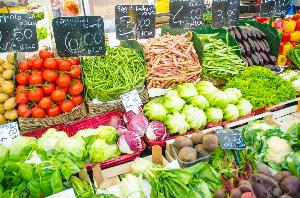bell_pepper: (262, 12, 300, 70)
eggplant: (227, 22, 275, 68)
tomato: (14, 53, 86, 125)
